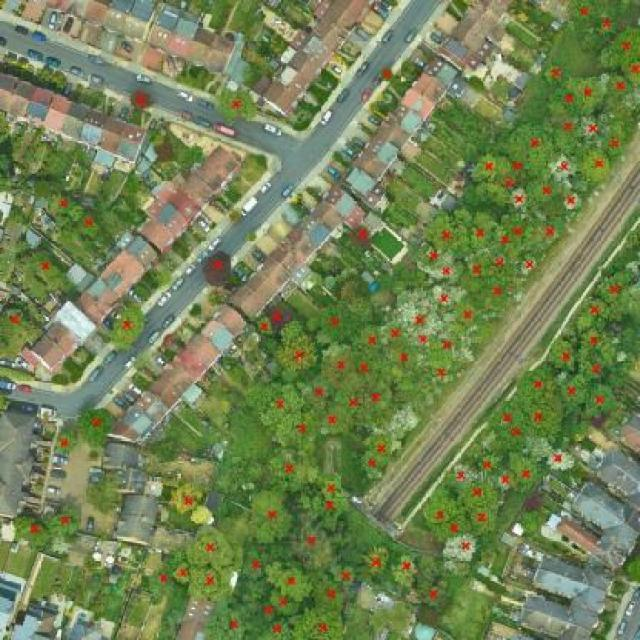tree: (188, 523, 245, 571), (249, 488, 296, 544), (308, 302, 372, 343), (418, 551, 459, 615), (245, 379, 305, 421), (277, 409, 323, 460), (288, 515, 332, 568), (598, 265, 640, 319), (11, 253, 69, 292), (287, 606, 350, 640), (578, 325, 627, 367), (0, 300, 43, 345), (430, 214, 472, 260), (525, 393, 562, 445), (108, 304, 149, 350), (265, 453, 313, 492), (273, 334, 321, 372), (317, 341, 358, 385), (270, 564, 318, 601), (12, 510, 54, 552), (332, 375, 371, 418), (514, 123, 557, 162), (203, 606, 252, 640), (76, 407, 116, 447), (186, 563, 229, 600), (595, 27, 640, 62), (305, 469, 352, 500), (569, 76, 609, 112), (442, 524, 478, 564), (452, 305, 494, 339), (47, 501, 78, 547), (215, 91, 259, 123), (604, 73, 640, 112), (312, 404, 353, 438), (463, 213, 500, 249), (555, 372, 591, 409), (480, 272, 514, 311), (528, 172, 563, 209), (586, 380, 620, 418), (521, 368, 559, 401), (202, 247, 233, 287), (564, 0, 610, 26), (361, 378, 395, 413), (511, 444, 538, 488), (358, 539, 391, 575), (298, 375, 335, 407), (384, 345, 425, 373), (348, 349, 381, 383), (171, 479, 204, 513), (539, 438, 573, 471), (445, 458, 476, 493), (428, 286, 465, 315), (470, 496, 499, 533), (583, 355, 617, 386), (464, 476, 495, 510), (553, 112, 581, 149), (552, 338, 580, 375), (390, 551, 418, 588), (414, 245, 457, 269), (148, 561, 175, 599), (499, 421, 536, 448), (582, 294, 613, 326), (359, 320, 385, 358), (405, 306, 443, 332), (576, 109, 605, 143), (460, 251, 491, 282), (549, 152, 580, 183), (471, 154, 504, 183), (501, 151, 534, 180), (241, 552, 275, 580), (315, 582, 350, 609), (311, 497, 347, 523), (169, 548, 194, 585), (262, 306, 295, 334), (554, 191, 588, 218), (435, 332, 464, 363), (552, 88, 585, 115), (258, 615, 293, 640), (381, 318, 412, 345), (423, 358, 454, 385), (514, 247, 541, 278), (584, 149, 611, 180), (600, 125, 626, 157), (426, 492, 451, 525), (535, 218, 563, 247), (542, 64, 573, 90), (47, 194, 79, 218), (596, 14, 622, 43), (495, 402, 522, 429), (360, 455, 389, 480), (126, 90, 157, 113), (269, 589, 296, 615), (365, 432, 393, 457), (487, 247, 516, 271), (505, 216, 529, 245), (409, 325, 440, 347), (475, 448, 500, 475), (52, 430, 77, 456), (348, 224, 372, 251), (187, 503, 211, 529), (253, 599, 281, 621), (495, 171, 520, 195), (439, 512, 464, 536), (435, 261, 460, 284), (507, 190, 533, 212), (79, 211, 99, 238), (331, 564, 358, 584), (254, 317, 277, 340), (496, 470, 518, 493), (492, 226, 512, 249), (626, 57, 640, 85), (375, 68, 397, 85)
